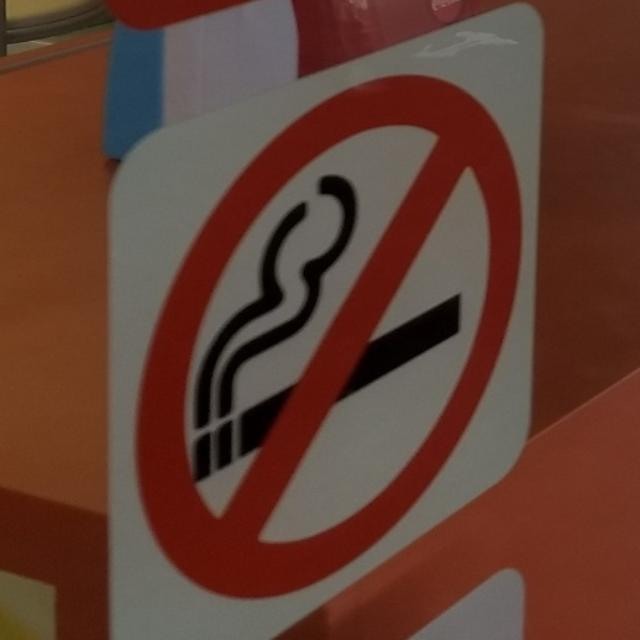cam hut thuoc: (137, 75, 521, 594)
